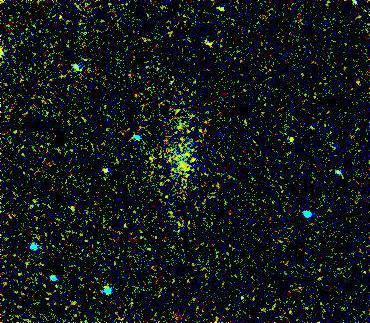star: (277, 126, 307, 156)
